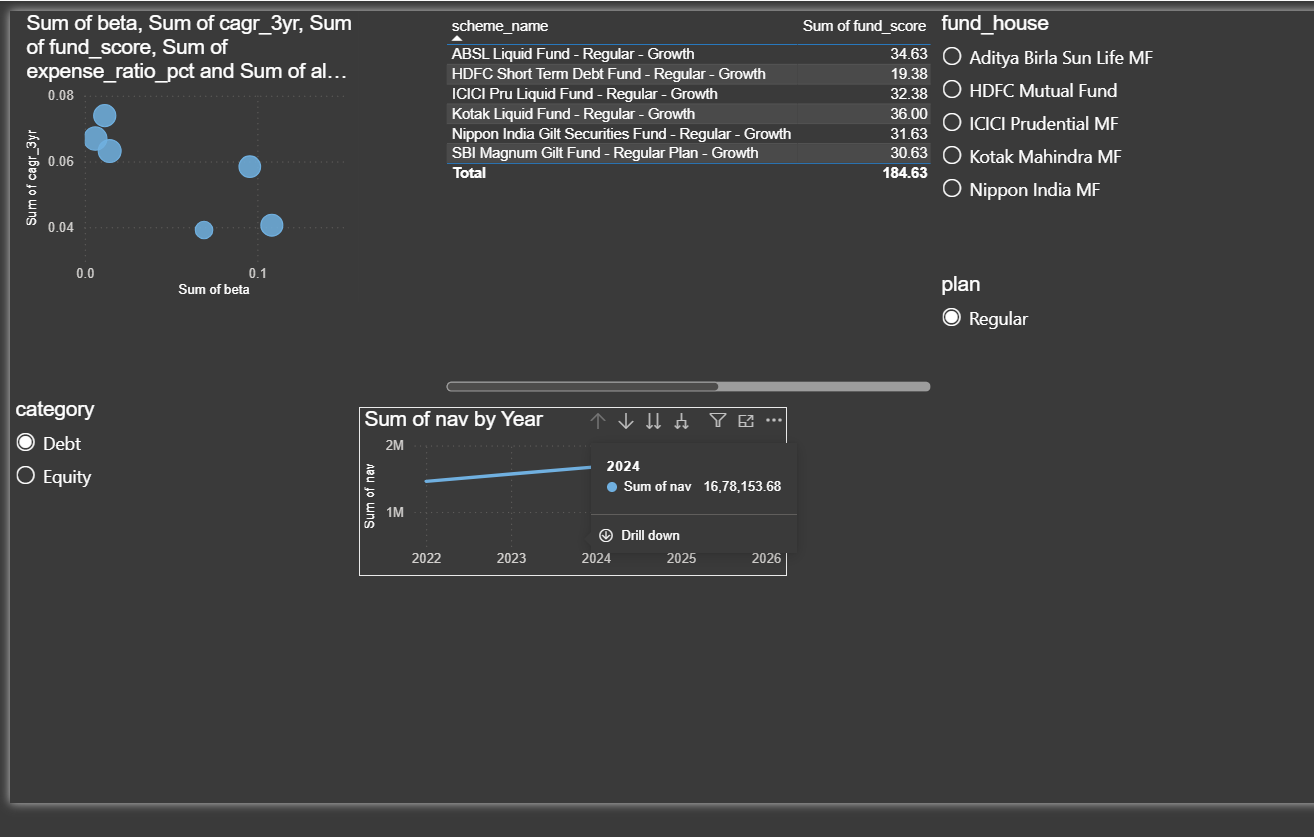

The page's visual inventory and layout, read from the dashboard file:
{"tool":"powerbi","page":{"name":"Fund Performance","canvas":[1280,720],"ordinal":1},"visuals":[{"type":"scatterChart","fields":{"Category":["fund_scorecard.scheme_name"],"X":["Sum(fund_scorecard.beta)"],"Y":["Sum(fund_scorecard.cagr_3yr)"],"Size":["Sum(fund_scorecard.fund_score)"]},"box":[10,0,307.3,265.5],"z":0},{"type":"tableEx","fields":{"Values":["fund_scorecard.scheme_name","Sum(fund_scorecard.fund_score)","Sum(fund_scorecard.cagr_3yr)","Sum(fund_scorecard.alpha)","Sum(fund_scorecard.expense_ratio)"]},"box":[390.9,0,450.9,350.9],"z":1000},{"type":"listSlicer","fields":{"Values":["clean_fund_master.category"]},"box":[0,350.9,380.9,180],"z":2000},{"type":"lineChart","fields":{"Category":["clean_nav_history.date.Variation.Date Hierarchy.Year","clean_nav_history.date.Variation.Date Hierarchy.Quarter","clean_nav_history.date.Variation.Date Hierarchy.Month","clean_nav_history.date.Variation.Date Hierarchy.Day"],"Y":["Sum(clean_nav_history.nav)"]},"box":[317.3,360,389.1,153.6],"z":3000},{"type":"listSlicer","fields":{"Values":["clean_fund_master.fund_house"]},"box":[841.8,0,380.9,179.1],"z":4000},{"type":"listSlicer","fields":{"Values":["clean_fund_master.plan"]},"box":[841.8,237.3,380.9,179.1],"z":5000}]}

Visuals, with their boxes on the page's 1280x720 design canvas (x1, y1, x2, y2). These are canvas units, not pixel positions in the 1314x837 screenshot, which may show the page scaled, cropped or inside an application window:
scatterChart - fund_scorecard.scheme_name x Sum(fund_scorecard.beta): 10/0/317/266
tableEx - fund_scorecard.scheme_name x Sum(fund_scorecard.fund_score): 391/0/842/351
listSlicer - clean_fund_master.category: 0/351/381/531
lineChart - clean_nav_history.date.Variation.Date Hierarchy.Year x clean_nav_history.date.Variation.Date Hierarchy.Quarter: 317/360/706/514
listSlicer - clean_fund_master.fund_house: 842/0/1223/179
listSlicer - clean_fund_master.plan: 842/237/1223/416
